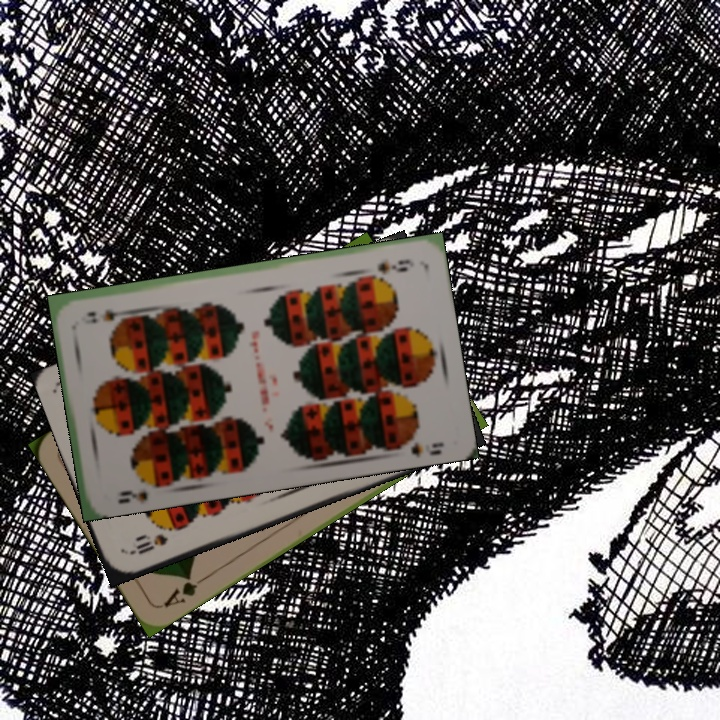GA: (160, 570, 210, 610)
S10: (125, 530, 171, 558)
S9: (114, 474, 163, 507), (373, 255, 417, 276)
